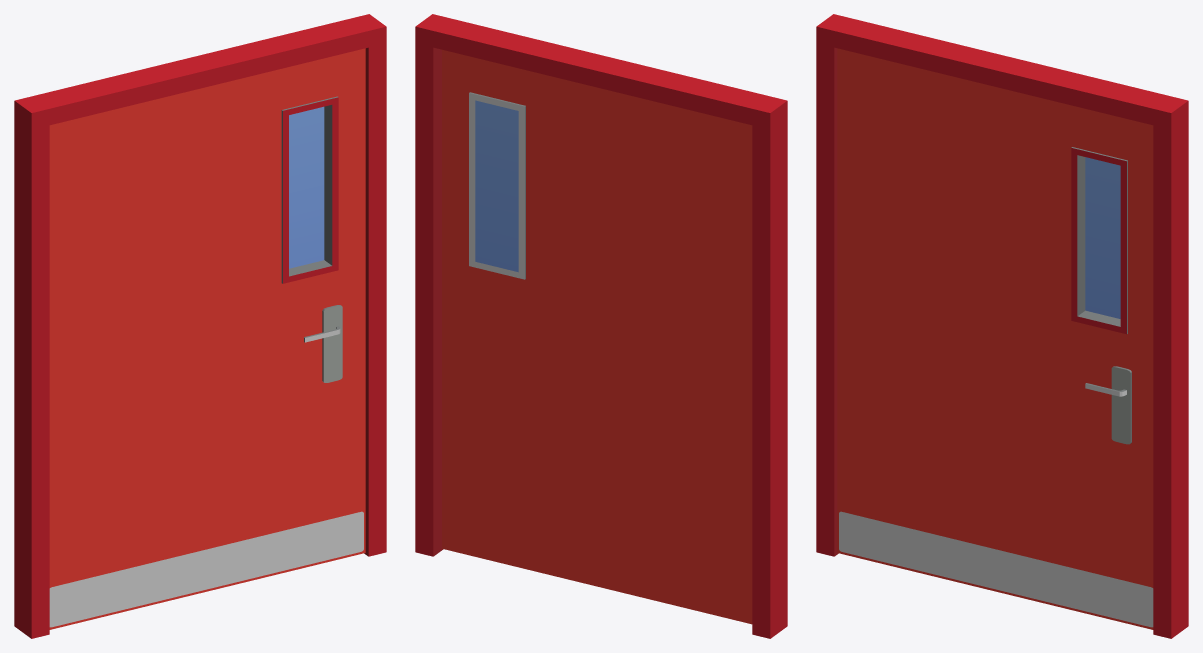
File: exit.fbx
3 views of the same model, side by side, from view 1: azimuth 30°, elevation 25°; view 2: azimuth 150°, elevation 25°; view 3: azimuth 330°, elevation 25° (orthographic).
Visible parts, largest first — view 1: exit_door1; view 2: exit_door1; view 3: exit_door1.
Part boxes in pixels (bbox=[...]): exit_door1: bbox=[14, 14, 386, 638]; exit_door1: bbox=[415, 14, 787, 638]; exit_door1: bbox=[816, 14, 1188, 638].
Size of the model in its own units: 5.31 by 7.52 by 0.5045.
Materials: 1 (1 with a texture image).
